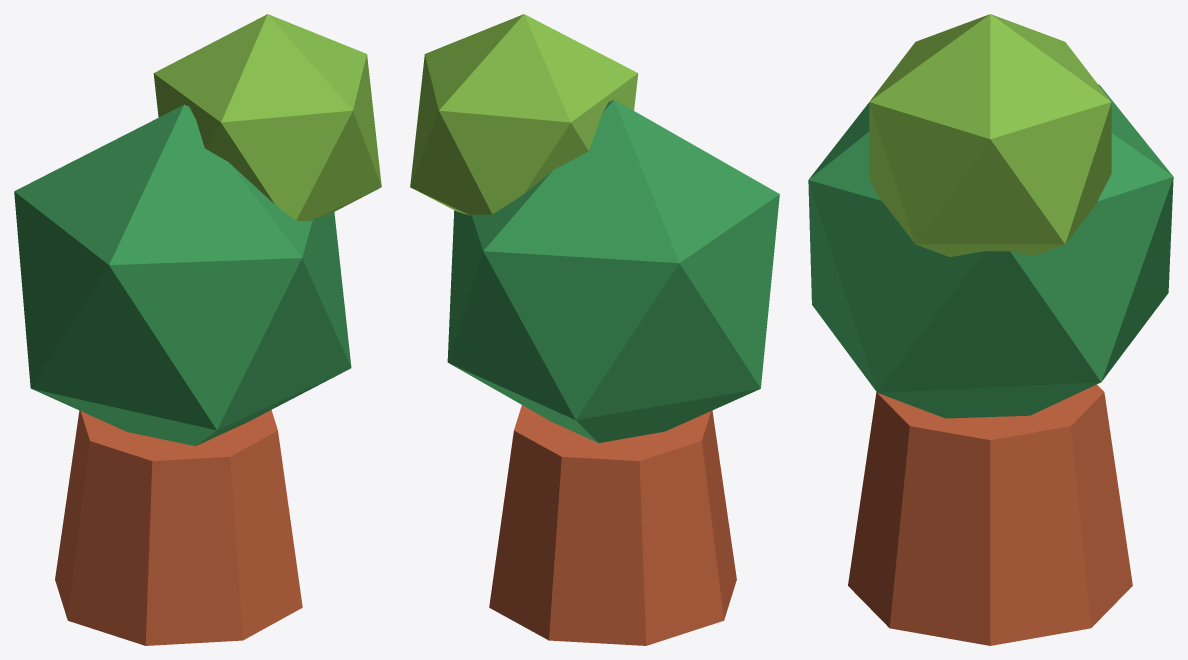
The model's file is plant_small.glb.
3 views of the same model, side by side, from view 1: azimuth 30°, elevation 25°; view 2: azimuth 150°, elevation 25°; view 3: azimuth 270°, elevation 25° (orthographic). The views are drawn at different scales.
Parts seen in each view (by area): view 1: plant_small; view 2: plant_small; view 3: plant_small.
Boxes of the visible parts, <box> form: plant_small: <box>14,14,381,645</box>; plant_small: <box>410,14,779,645</box>; plant_small: <box>808,14,1173,645</box>.
Bounding box in the file's own units: 0.3027 × 0.48 × 0.2563.
